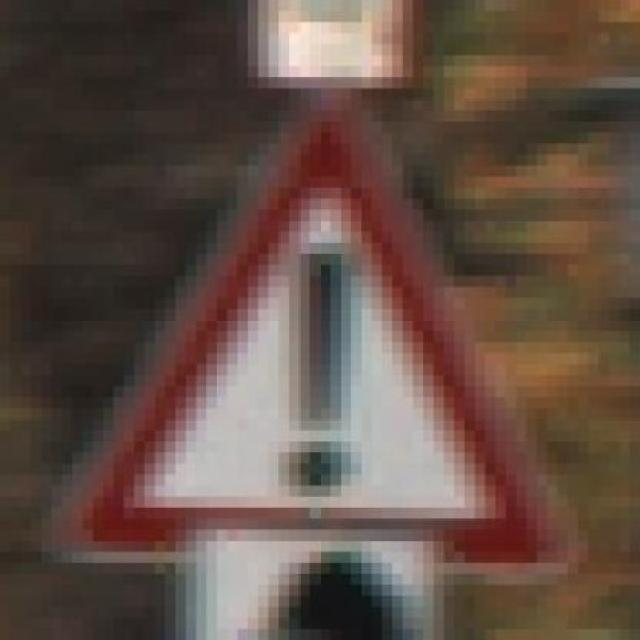Attention Please-: (51, 99, 588, 575)
